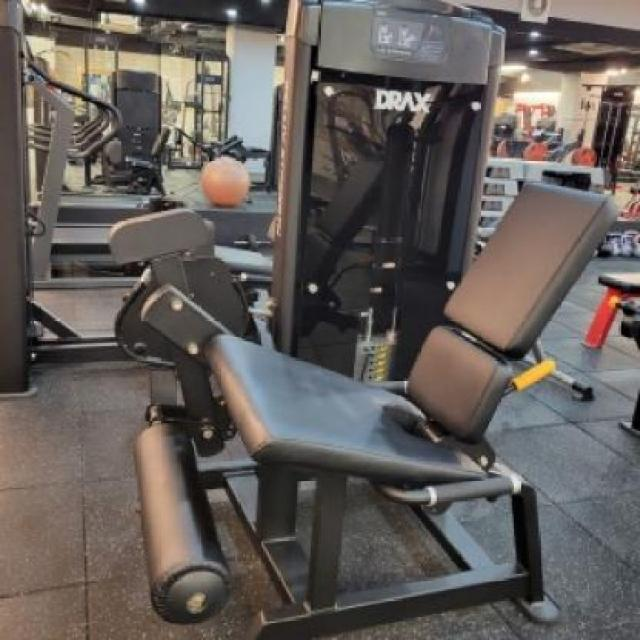leg extension: (112, 0, 620, 640)
